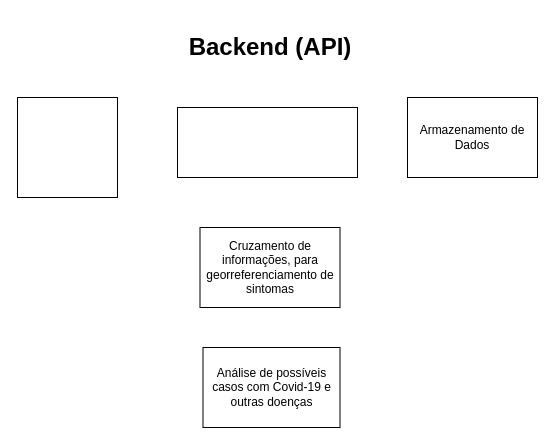
This 555x445 diagram has some shape labels left out. Each missing label, with the box of its shape:
API com os Endpoints que o App irá consumir: (16, 96, 118, 198)
Regras com as relações dos pacientes, criação dos exames e ajustes: (176, 106, 358, 178)
